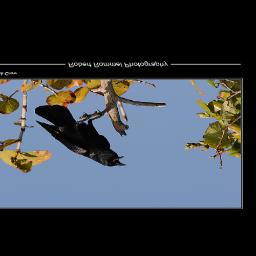Crow: (35, 105, 127, 167)
